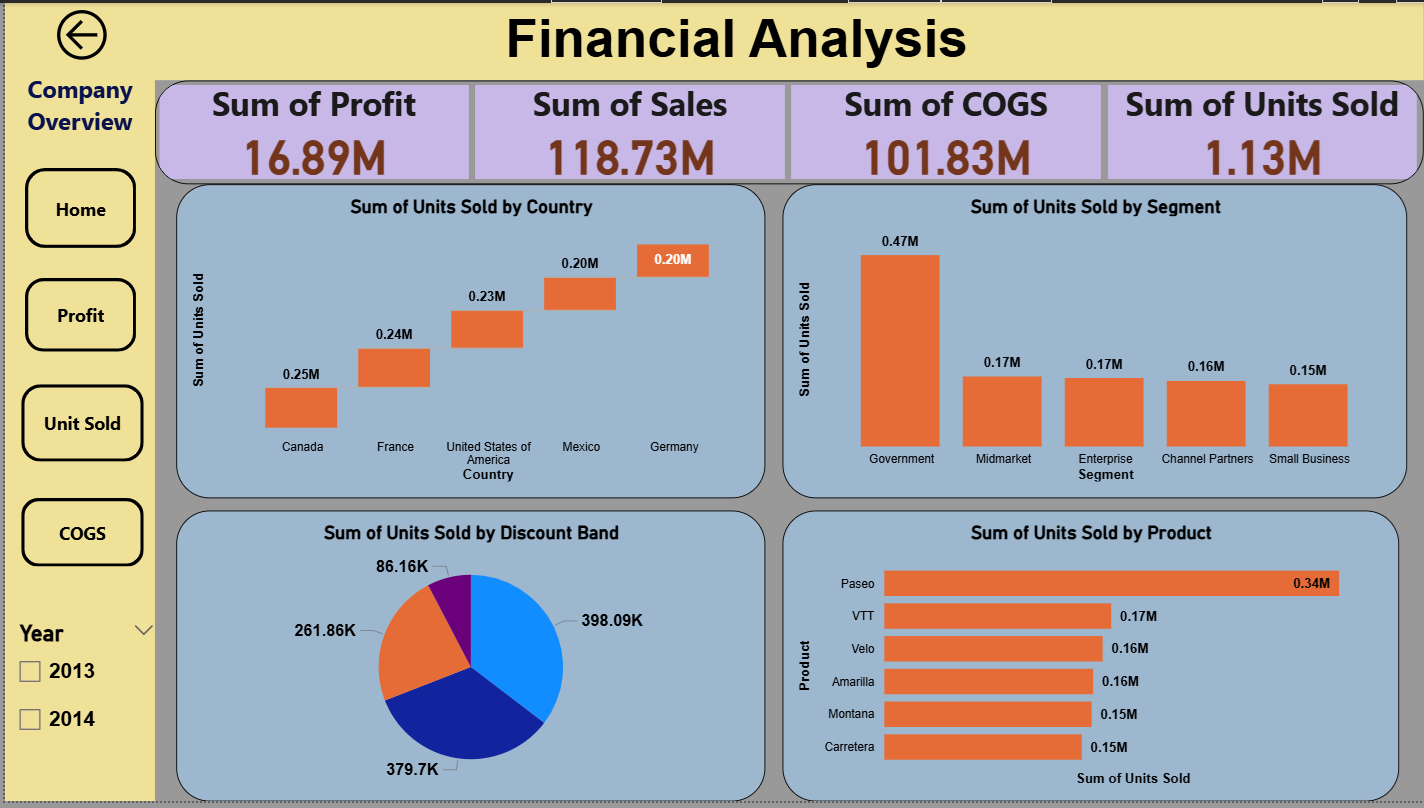

The page's visual inventory and layout, read from the dashboard file:
{"tool":"powerbi","page":{"name":"unit sold","canvas":[1280,720],"ordinal":11},"visuals":[{"type":"textbox","box":[0,0,1279.3,69.9],"z":0},{"type":"textbox","box":[0,57.5,135.3,662.7],"z":1000},{"type":"pieChart","fields":{"Category":["financials.Discount Band"],"Y":["Sum(financials.Units Sold)"]},"box":[154.4,457.6,530.9,262.6],"z":2000},{"type":"cardVisual","fields":{"Data":["Sum(financials.Profit)","Sum(financials. Sales)","Sum(financials.COGS)","Sum(financials.Units Sold)"]},"box":[135.3,69.9,1144,93.6],"z":3000},{"type":"slicer","fields":{"Values":["financials.Year"]},"box":[0,551.2,146.5,136.4],"z":4000},{"type":"waterfallChart","fields":{"Category":["financials.Country"],"Y":["Sum(financials.Units Sold)"]},"box":[154.4,163.4,530.9,282.9],"z":5000},{"type":"lineClusteredColumnComboChart","fields":{"Y":["Sum(financials.Units Sold)"],"Category":["financials.Segment"]},"box":[701.1,163.4,563.6,282.9],"z":6000},{"type":"clusteredBarChart","fields":{"Category":["financials.Product"],"Y":["Sum(financials.Units Sold)"]},"box":[701.1,457.6,555.7,262.6],"z":7000},{"type":"actionButton","box":[18,148.8,100.3,72.1],"z":8000},{"type":"actionButton","box":[18,248,100.3,66.5],"z":9000},{"type":"actionButton","box":[14.7,343.8,110.5,69.9],"z":10000},{"type":"actionButton","box":[14.7,446.3,110.5,62],"z":11000},{"type":"actionButton","box":[40.6,0,77.8,57.5],"z":12000}]}

Visuals, with their boxes in screenshot pixels (x1, y1, x2, y2), scaled from the page's 1280x720 canvas onto the 1424x808 screenshot:
textbox: x1=0, y1=0, x2=1423, y2=78
textbox: x1=0, y1=65, x2=151, y2=807
pieChart - financials.Discount Band x Sum(financials.Units Sold): x1=172, y1=514, x2=762, y2=807
cardVisual - Sum(financials.Profit) x Sum(financials. Sales): x1=151, y1=78, x2=1423, y2=183
slicer - financials.Year: x1=0, y1=619, x2=163, y2=772
waterfallChart - financials.Country x Sum(financials.Units Sold): x1=172, y1=183, x2=762, y2=501
lineClusteredColumnComboChart - Sum(financials.Units Sold) x financials.Segment: x1=780, y1=183, x2=1407, y2=501
clusteredBarChart - financials.Product x Sum(financials.Units Sold): x1=780, y1=514, x2=1398, y2=807
actionButton: x1=20, y1=167, x2=132, y2=248
actionButton: x1=20, y1=278, x2=132, y2=353
actionButton: x1=16, y1=386, x2=139, y2=464
actionButton: x1=16, y1=501, x2=139, y2=570
actionButton: x1=45, y1=0, x2=132, y2=65
